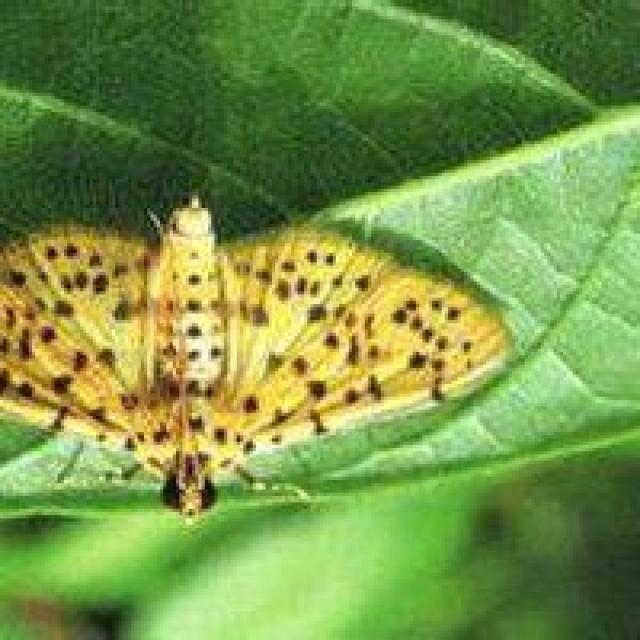peach borer: (1, 203, 513, 542)
